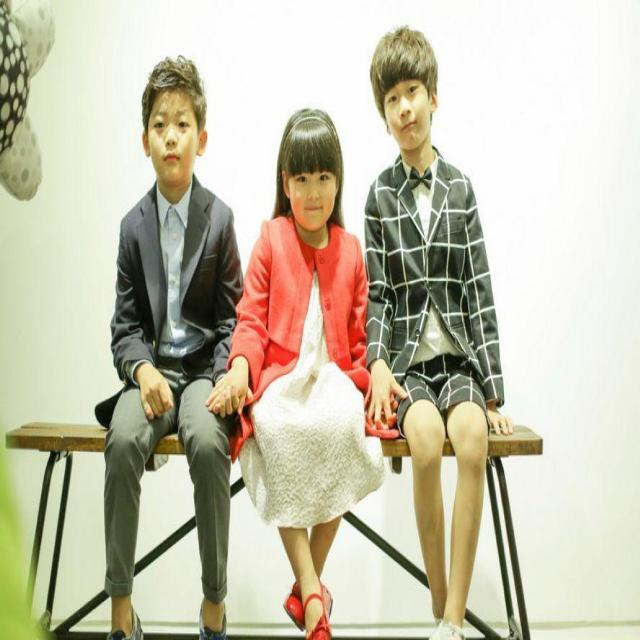obstacle: (342, 2, 540, 640), (93, 50, 236, 640), (228, 92, 368, 640)
